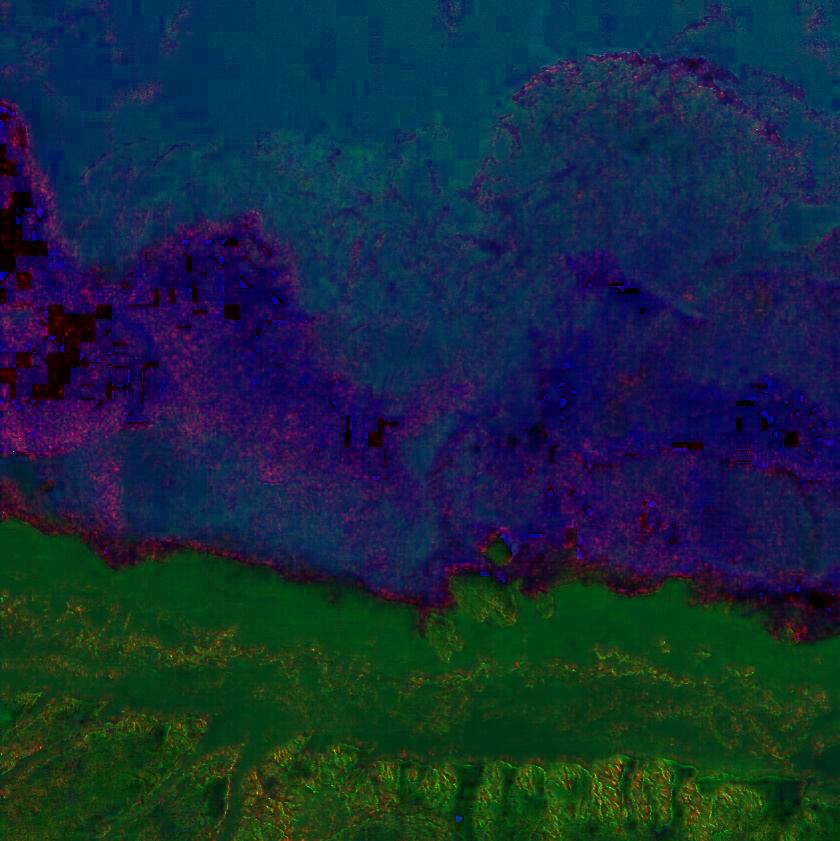rip_current: (269, 76, 579, 488)
